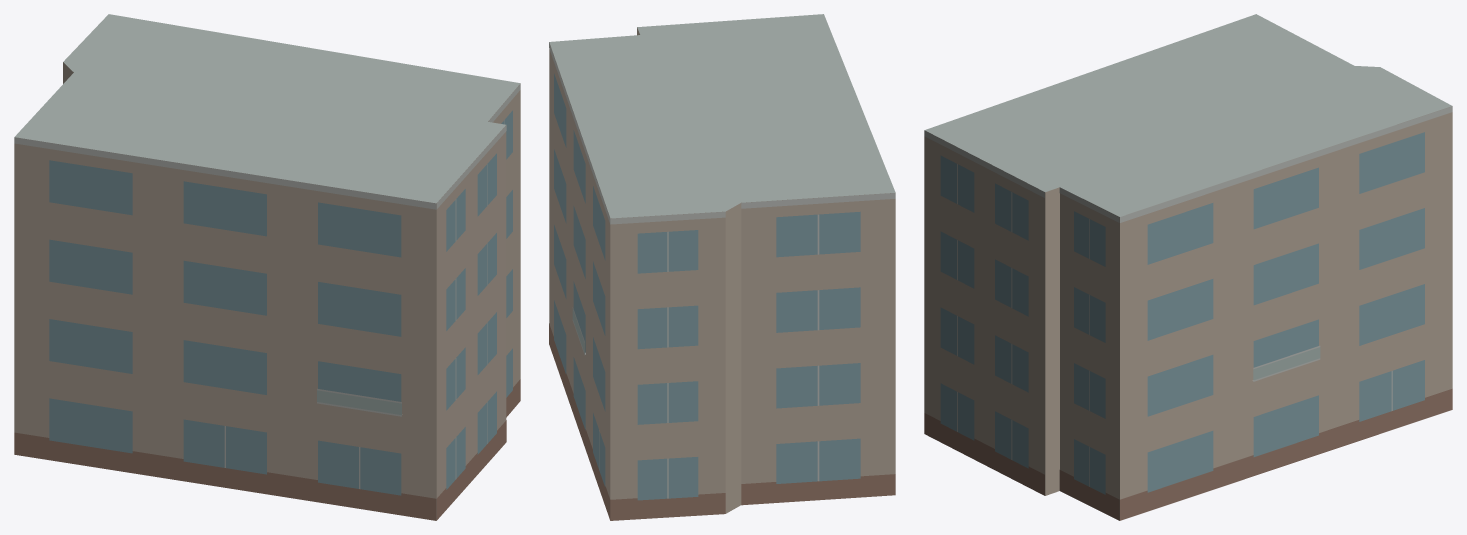
File: survey-upis-32886720.glb
3 renders of one model, left to right at view 1: azimuth 30°, elevation 25°; view 2: azimuth 150°, elevation 25°; view 3: azimuth 270°, elevation 25°, orthographic. The views are drawn at different scales.
Parts seen in each view (by area): view 1: survey-upis-32886720.tmp; view 2: survey-upis-32886720.tmp; view 3: survey-upis-32886720.tmp.
Boxes of the visible parts, left/top/right/bottom form: survey-upis-32886720.tmp: left=14, top=14, right=520, bottom=520; survey-upis-32886720.tmp: left=549, top=14, right=895, bottom=520; survey-upis-32886720.tmp: left=924, top=14, right=1452, bottom=520.
Size of the model in its own units: 17.5 by 12.2 by 19.23.
